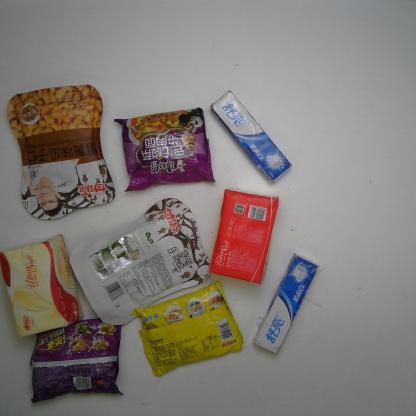Dried Fruit: (68, 198, 212, 327), (5, 83, 116, 221)
Instant Noodles: (131, 279, 246, 377), (113, 107, 216, 192), (28, 316, 124, 407)
Personal Hygiene: (210, 90, 294, 184), (252, 249, 323, 358)
Tissue: (0, 233, 86, 338), (209, 188, 281, 288)
